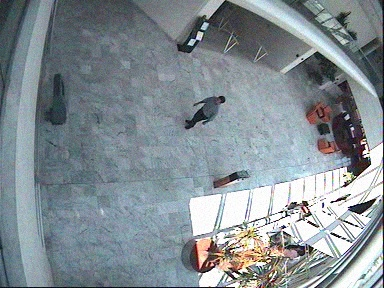person: (184, 96, 225, 128), (282, 200, 313, 218)
